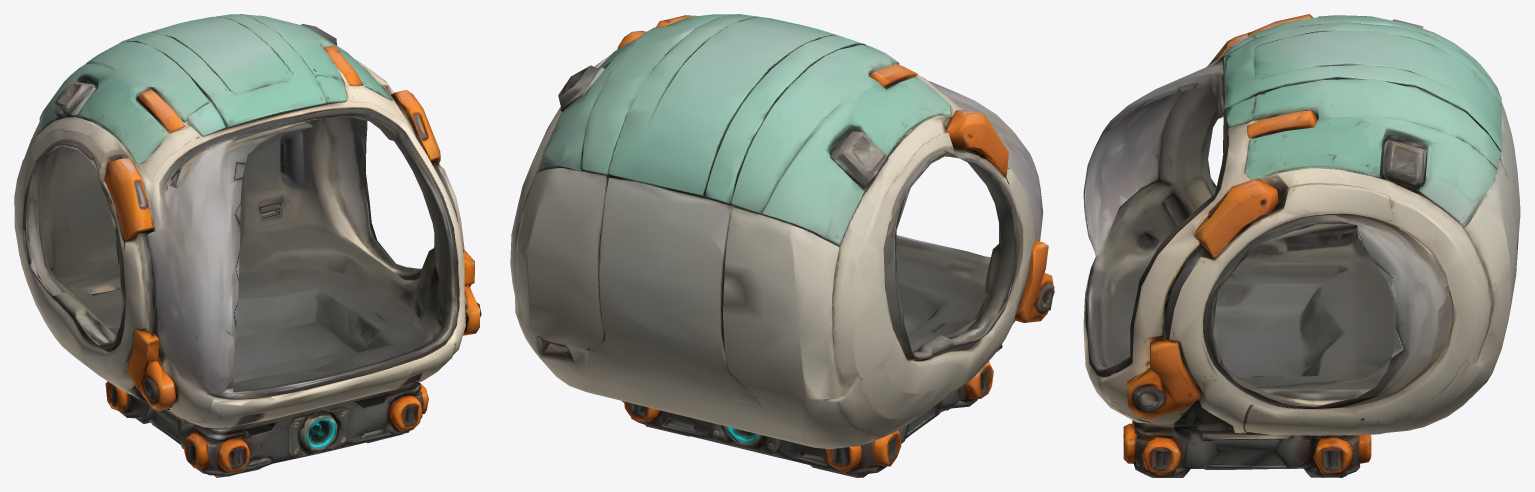
Rendered from sci-fi domed vehicle 3d model.glb.
The picture shows the model from 3 angles, left to right: view 1: azimuth 30°, elevation 25°; view 2: azimuth 150°, elevation 25°; view 3: azimuth 270°, elevation 25°; orthographic projection. The views are drawn at different scales.
Parts seen in each view (by area): view 1: tripo_node_946d993e-9d02-4845-8615-78b4c30363c1; view 2: tripo_node_946d993e-9d02-4845-8615-78b4c30363c1; view 3: tripo_node_946d993e-9d02-4845-8615-78b4c30363c1.
Boxes of the visible parts, left/top/right/bottom form: tripo_node_946d993e-9d02-4845-8615-78b4c30363c1: left=14, top=14, right=481, bottom=477; tripo_node_946d993e-9d02-4845-8615-78b4c30363c1: left=510, top=14, right=1054, bottom=477; tripo_node_946d993e-9d02-4845-8615-78b4c30363c1: left=1083, top=14, right=1520, bottom=477.
Size of the model in its own units: 0.9565 by 0.9662 by 1.
1 material, 1 textured.
